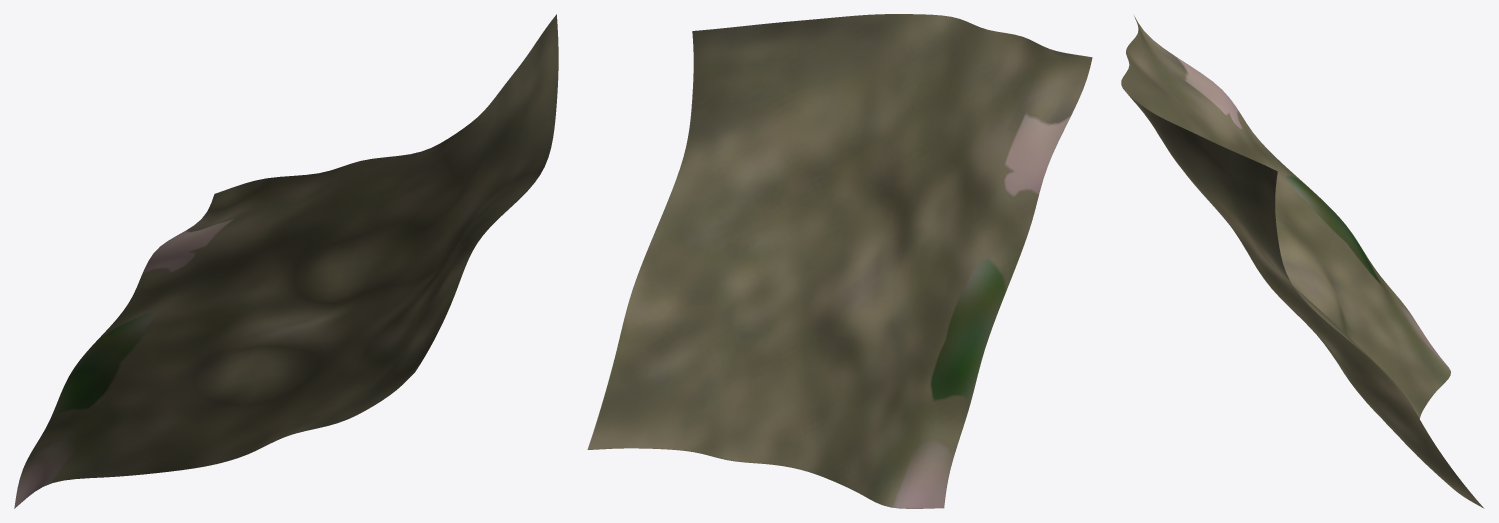
The model's file is ground_mid_00_04.obj.
The picture shows the model from 3 angles, left to right: view 1: azimuth 30°, elevation 25°; view 2: azimuth 150°, elevation 25°; view 3: azimuth 270°, elevation 25°; orthographic projection. The views are drawn at different scales.
Visible parts, largest first — view 1: ground_mid_00_04; view 2: ground_mid_00_04; view 3: ground_mid_00_04.
Part boxes in pixels (box(x1,y1,x2,y2)): ground_mid_00_04: box(14, 14, 558, 508); ground_mid_00_04: box(587, 14, 1092, 508); ground_mid_00_04: box(1121, 15, 1484, 508).
Size of the model in its own units: 200 by 200 by 195.
Materials: 1 (1 with a texture image).
